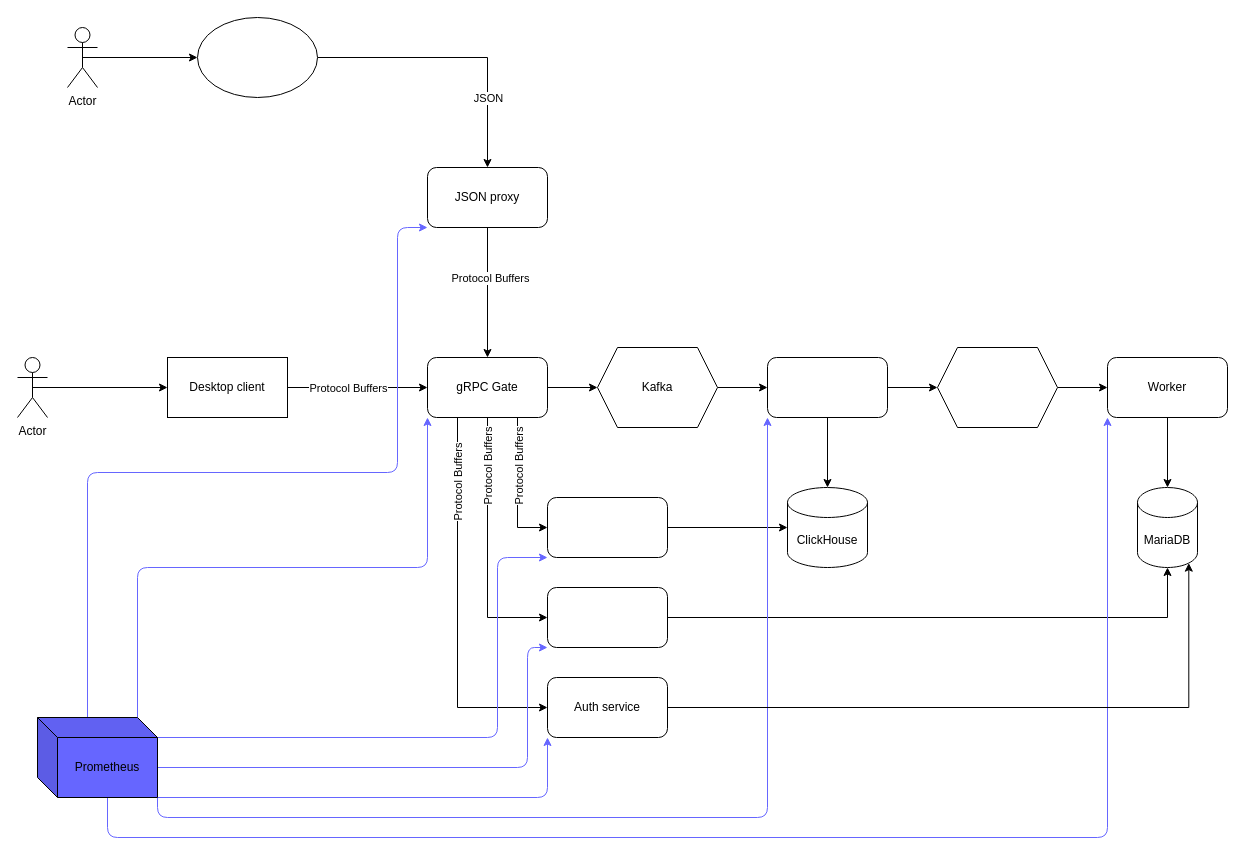
Some shapes in this 1245 by 863 pixel diagram are drawn without their labels. The shapes that lost their labels are listed below. From the top down, each one's centre as x and y in pixels, then its label:
At (257,57): "Any service".
At (827,387): "Handler".
At (997,387): "RabbitMQ".
At (607,527): "Log service".
At (607,617): "Notification service".
